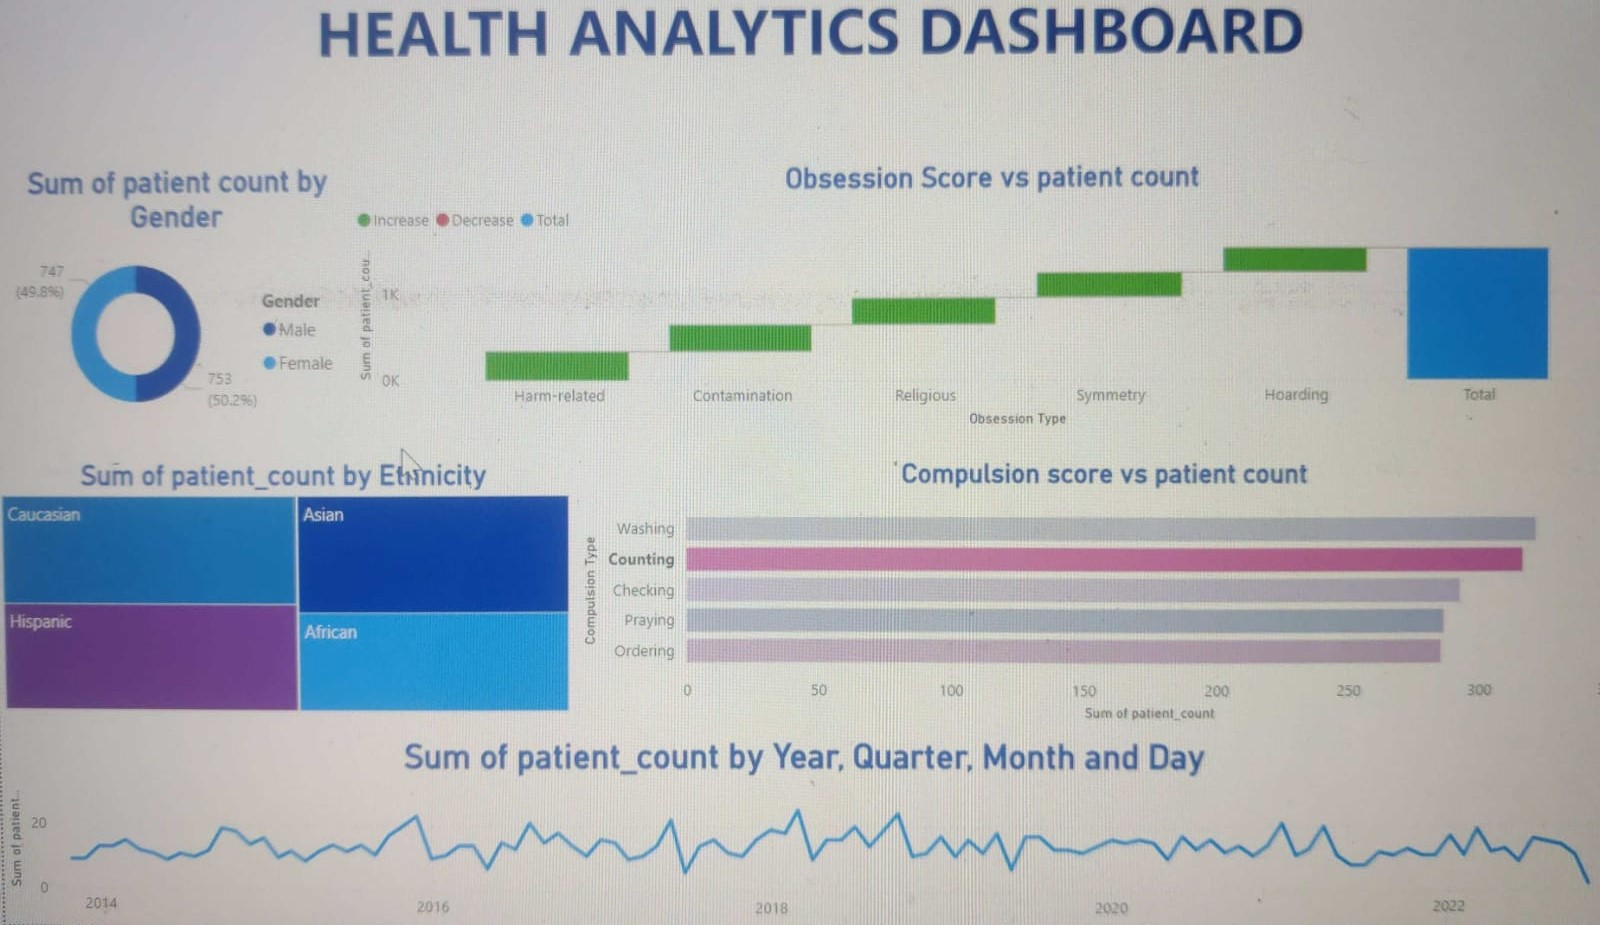

The dashboard page shown, as its layout file describes it:
{"tool":"powerbi","page":{"name":"Page 1","canvas":[1280,720],"ordinal":0},"visuals":[{"type":"textbox","box":[9.6,0,1270.7,61.7],"z":0},{"type":"lineChart","fields":{"Category":["diagnosis_month.month.Variation.Date Hierarchy.Year","diagnosis_month.month.Variation.Date Hierarchy.Quarter","diagnosis_month.month.Variation.Date Hierarchy.Month","diagnosis_month.month.Variation.Date Hierarchy.Day"],"Y":["Sum(diagnosis_month.patient_count)"]},"box":[0,570.8,1270.7,149.6],"z":1000},{"type":"donutChart","title":"Sum of patient count by Gender","fields":{"Category":["diagnosis_gender.Gender"],"Y":["Sum(diagnosis_gender.patient_count)"]},"box":[9.6,135.8,275.8,204.5],"z":2000},{"type":"treemap","fields":{"Group":["diagnosis_ethnicity.Ethnicity"],"Values":["Sum(diagnosis_ethnicity.patient_count)"]},"box":[0,359.5,458.3,197.6],"z":3000},{"type":"waterfallChart","title":"Obsession Score vs patient count","fields":{"Category":["diagnosis_obsession score.Obsession Type"],"Y":["Sum(diagnosis_obsession score.patient_count)"]},"box":[285.4,135.8,994.9,204.5],"z":4000},{"type":"barChart","title":"Compulsion score vs patient count","fields":{"Category":["diagnosis_compulsion_score.Compulsion Type"],"Y":["Sum(diagnosis_compulsion_score.patient_count)"]},"box":[458.3,359.5,822,204.5],"z":5000}]}

Visuals, with their boxes in screenshot pixels (x1, y1, x2, y2), scaled from the page's 1280x720 canvas onto the 1600x925 screenshot:
textbox: (12, 0, 1599, 79)
lineChart - diagnosis_month.month.Variation.Date Hierarchy.Year x diagnosis_month.month.Variation.Date Hierarchy.Quarter: (0, 733, 1588, 924)
"Sum of patient count by Gender" donutChart: (12, 174, 357, 437)
treemap - diagnosis_ethnicity.Ethnicity x Sum(diagnosis_ethnicity.patient_count): (0, 462, 573, 716)
"Obsession Score vs patient count" waterfallChart: (357, 174, 1599, 437)
"Compulsion score vs patient count" barChart: (573, 462, 1599, 725)
